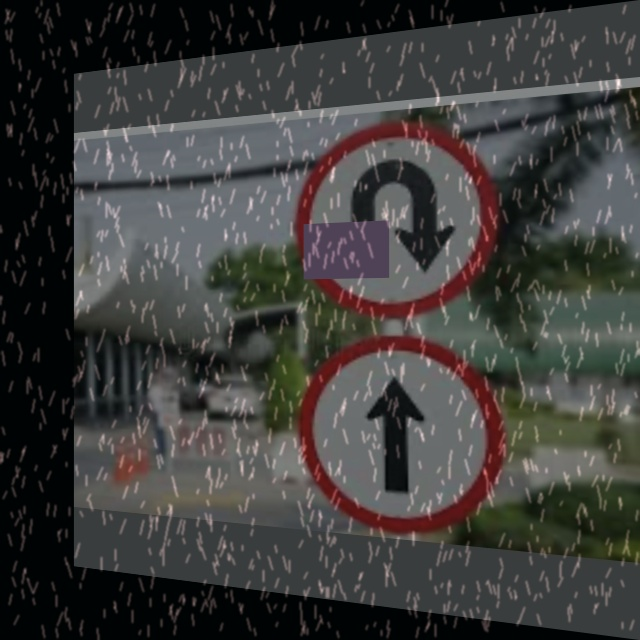U_Turn_Ahead: (299, 116, 500, 307)
